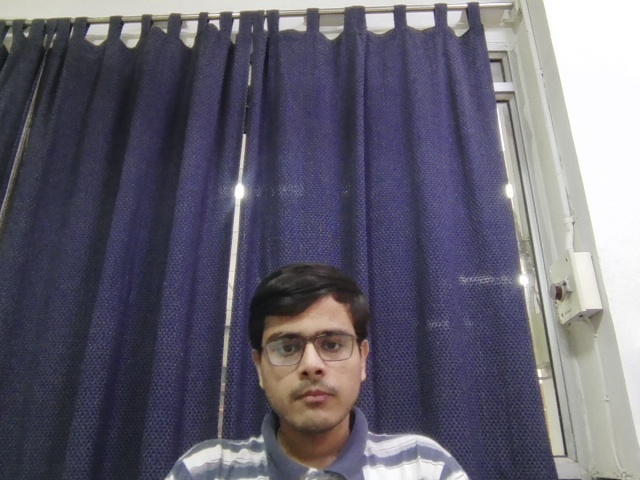face: (245, 266, 373, 431)
